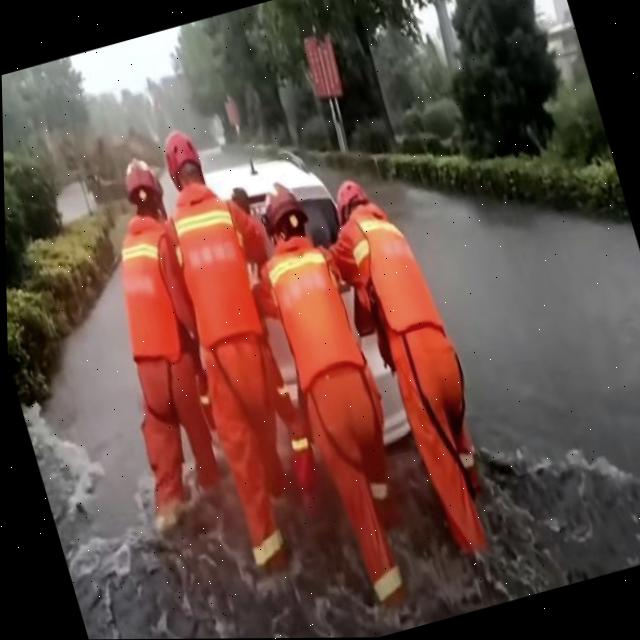rescuer: (120, 101, 374, 610), (217, 144, 457, 630), (288, 146, 531, 608), (45, 144, 267, 539)
